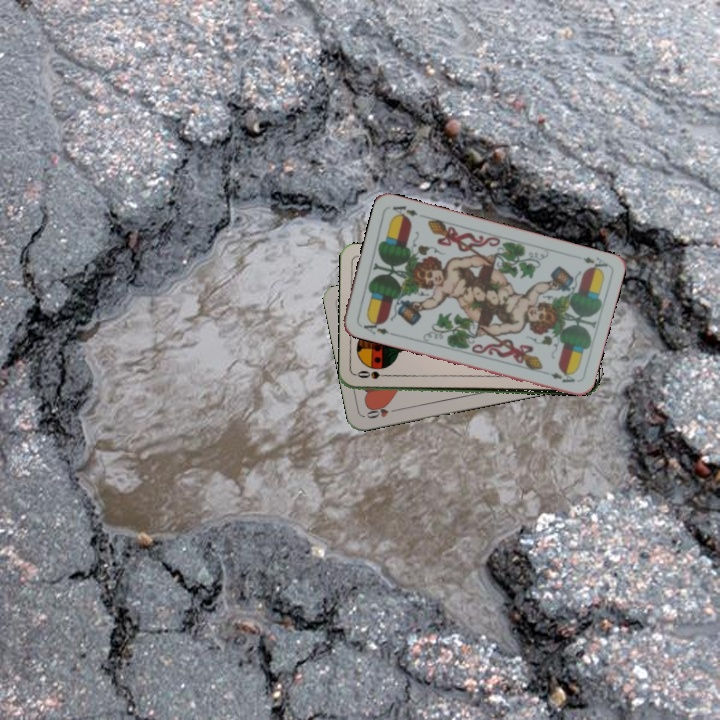EA: (359, 315, 396, 338), (579, 253, 610, 274)
HO: (362, 402, 401, 421)
SO: (353, 367, 394, 381)
